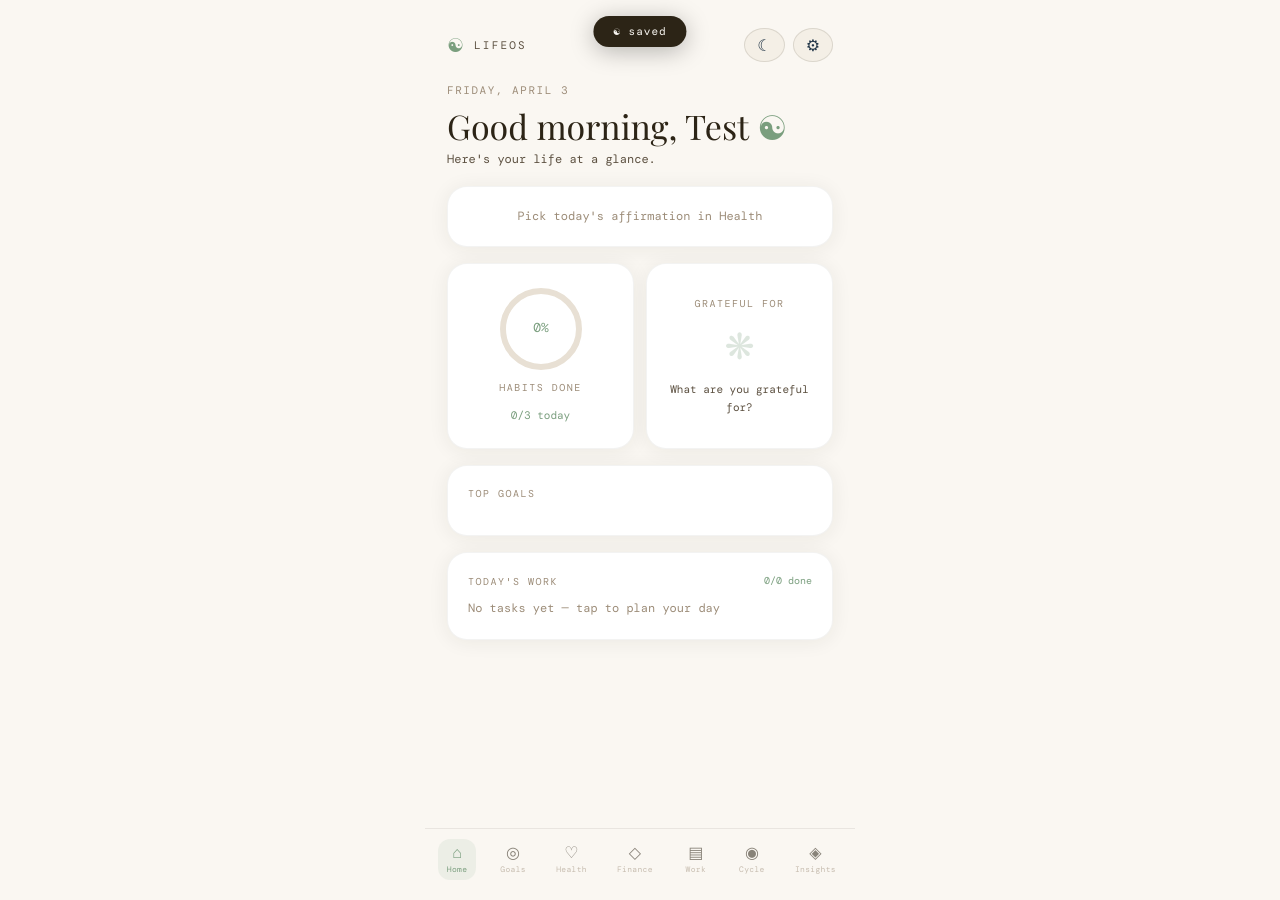
Test case: LifeOS root shell › opens settings and shows account info
The width and height of the screenshot is (1280, 900).
Expected: the text "LifeOS" is shown, [474,37,527,53]
Note: Click settings gear
Click the button "⚙". click: [813, 45]
box: [793,28,833,62]
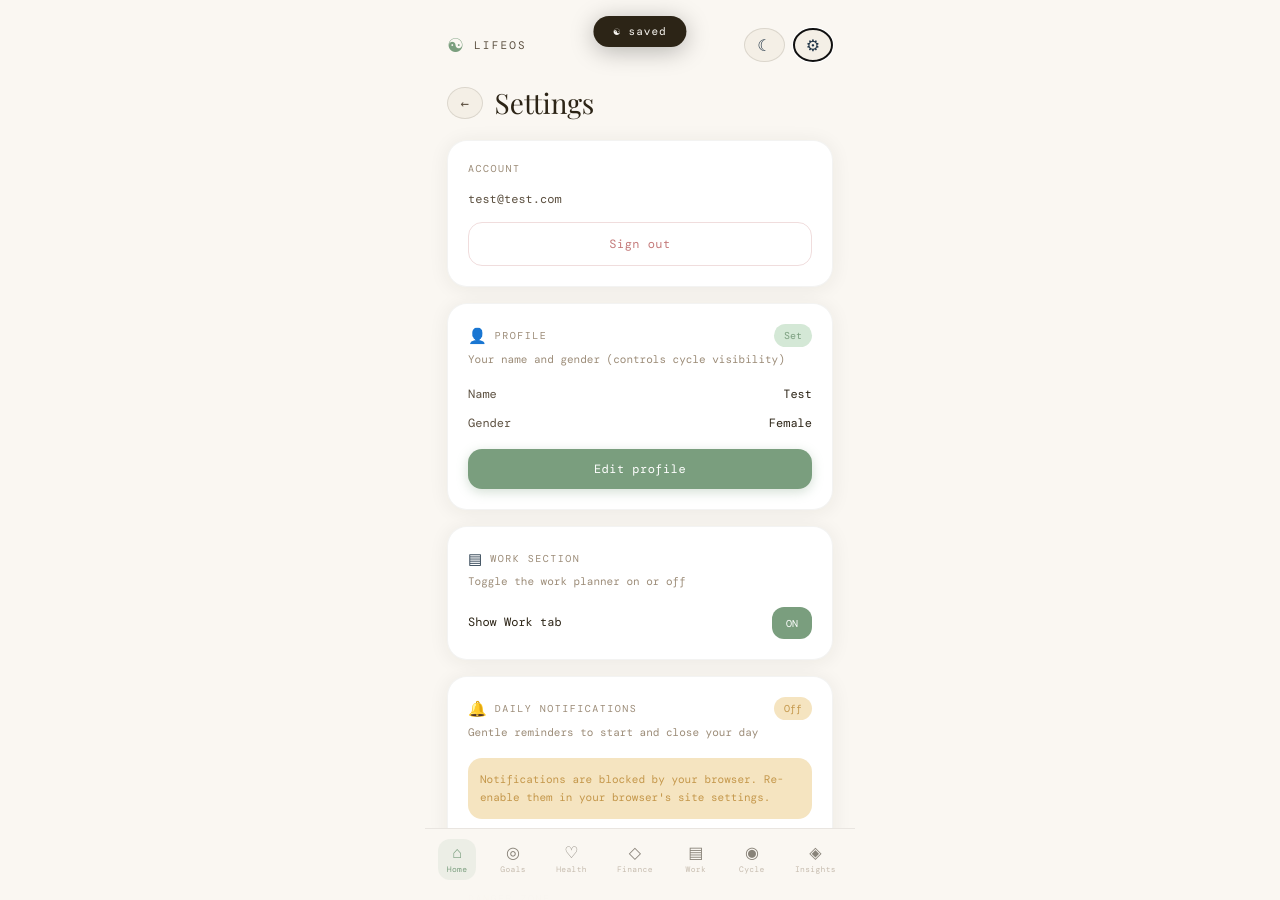
Expected: the text "test@test.com" is shown, [468,190,562,208]
Expected: the button "Sign out" is shown, [468,222,812,266]
